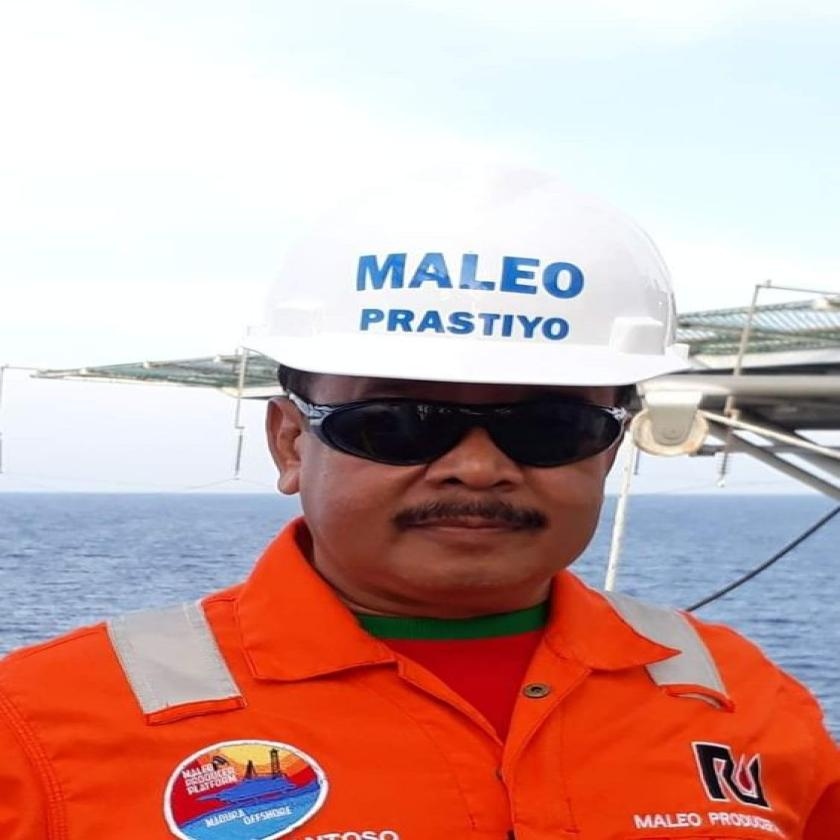Con_casco: (242, 150, 702, 611)
